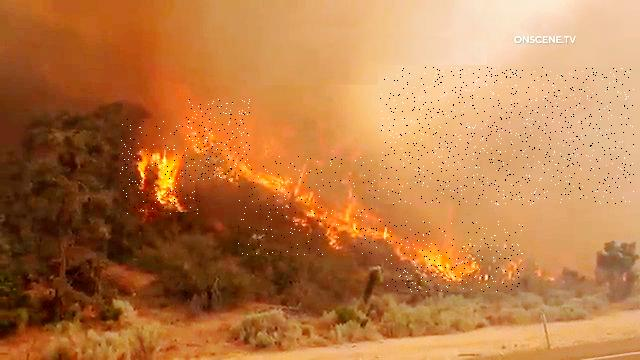fire: (239, 156, 382, 256), (384, 221, 523, 292), (120, 120, 202, 215), (187, 99, 251, 182)
smoke: (380, 67, 634, 205), (129, 9, 490, 88)
